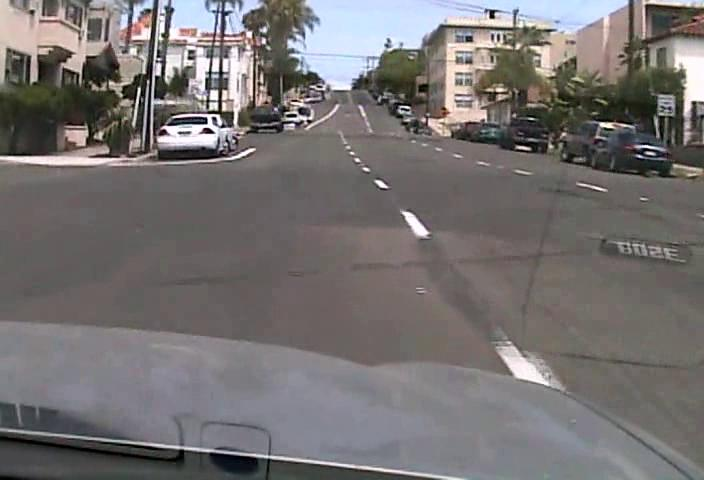speedLimit25: (655, 93, 676, 117)
